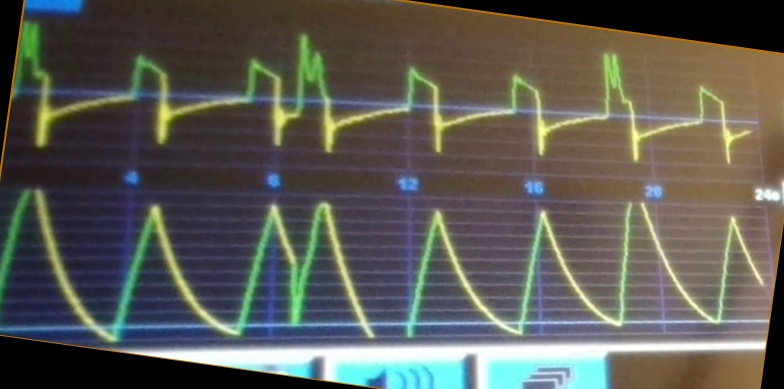Double_Triggering Flow: (12, 20, 740, 168)
Double_Triggering Volume: (2, 188, 745, 343)
